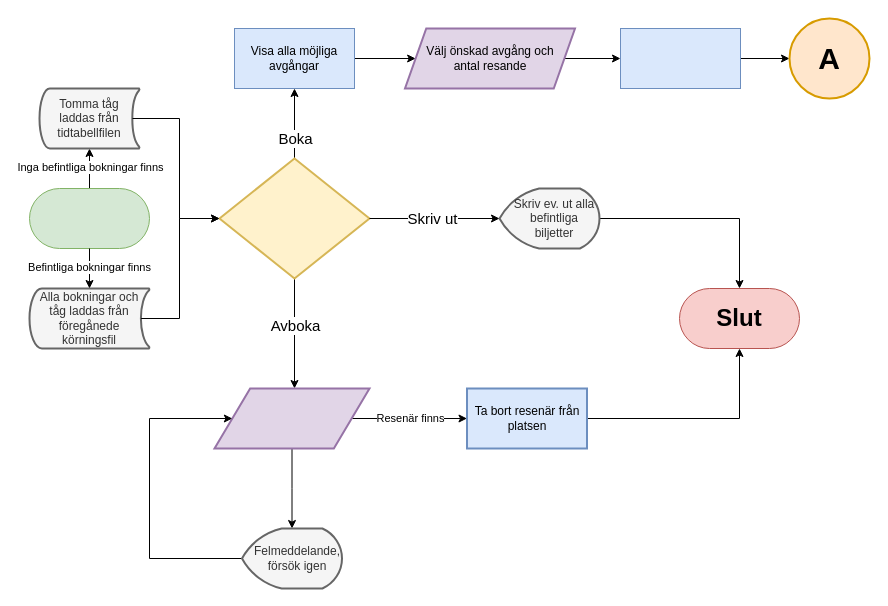
Some shapes in this 888 by 606 pixel diagram are drawn without their labels. Here are the shapes that lost their labels. From the top down, the centre of each, then its label:
At (x=680, y=58): "Platsdiagram med tillgängliga platser visas".
At (x=89, y=218): "Start".
At (x=294, y=218): "Välj: Boka Avboka Skriv ut".
At (x=291, y=418): "Välj platsnummer".
